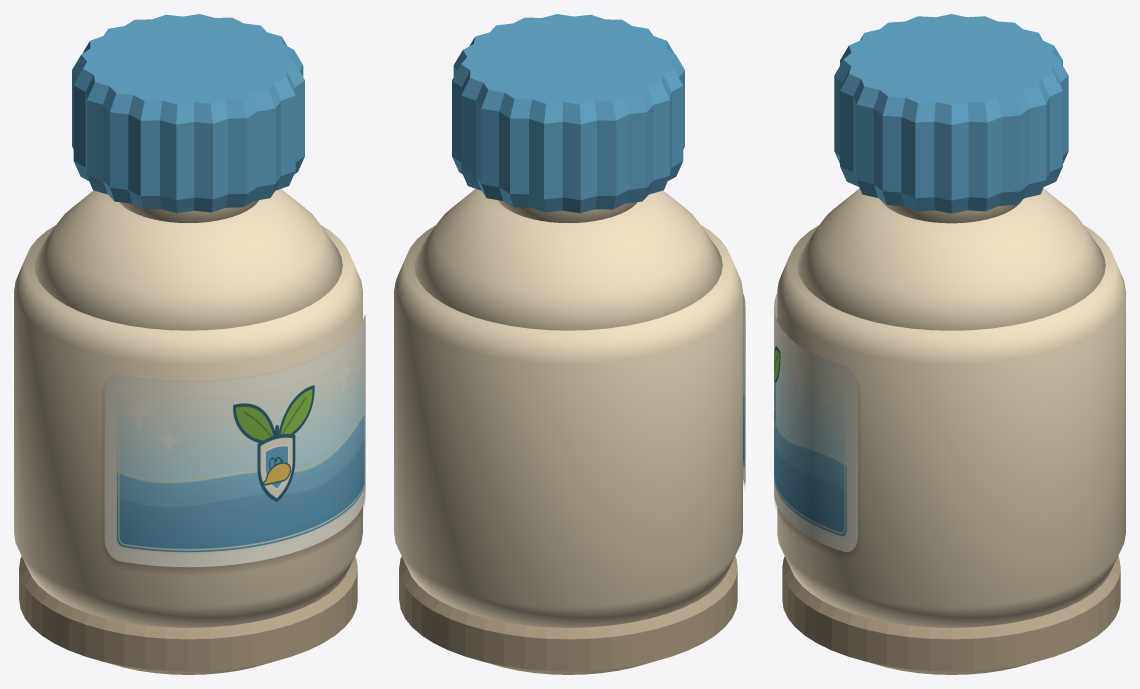
Rendered from LiquidPreparationBottleSlugControl.glb.
3 views of the same model, side by side, from view 1: azimuth 30°, elevation 25°; view 2: azimuth 150°, elevation 25°; view 3: azimuth 270°, elevation 25° (orthographic).
Visible parts, largest first — view 1: LiquidPreparationBottleSlugControl_Body, LiquidPreparationBottleSlugControl_Label, LiquidPreparationBottleSlugControl_Cap, LiquidPreparationBottleSlugControl_Shoulder, LiquidPreparationBottleSlugControl_Base_Rim, LiquidPreparationBottleSlugControl_Neck; view 2: LiquidPreparationBottleSlugControl_Body, LiquidPreparationBottleSlugControl_Cap, LiquidPreparationBottleSlugControl_Shoulder, LiquidPreparationBottleSlugControl_Base_Rim, LiquidPreparationBottleSlugControl_Neck, LiquidPreparationBottleSlugControl_Label; view 3: LiquidPreparationBottleSlugControl_Body, LiquidPreparationBottleSlugControl_Cap, LiquidPreparationBottleSlugControl_Shoulder, LiquidPreparationBottleSlugControl_Label, LiquidPreparationBottleSlugControl_Base_Rim, LiquidPreparationBottleSlugControl_Neck.
Boxes of the visible parts, bbox=[...] form: LiquidPreparationBottleSlugControl_Body: bbox=[14, 225, 362, 627]; LiquidPreparationBottleSlugControl_Label: bbox=[104, 315, 365, 570]; LiquidPreparationBottleSlugControl_Cap: bbox=[72, 14, 304, 213]; LiquidPreparationBottleSlugControl_Shoulder: bbox=[34, 189, 342, 330]; LiquidPreparationBottleSlugControl_Base_Rim: bbox=[19, 556, 357, 674]; LiquidPreparationBottleSlugControl_Neck: bbox=[119, 200, 258, 222]; LiquidPreparationBottleSlugControl_Body: bbox=[394, 225, 742, 627]; LiquidPreparationBottleSlugControl_Cap: bbox=[452, 14, 684, 213]; LiquidPreparationBottleSlugControl_Shoulder: bbox=[414, 189, 722, 330]; LiquidPreparationBottleSlugControl_Base_Rim: bbox=[399, 556, 737, 674]; LiquidPreparationBottleSlugControl_Neck: bbox=[498, 200, 637, 222]; LiquidPreparationBottleSlugControl_Label: bbox=[743, 293, 745, 485]; LiquidPreparationBottleSlugControl_Body: bbox=[777, 225, 1125, 627]; LiquidPreparationBottleSlugControl_Cap: bbox=[834, 14, 1068, 213]; LiquidPreparationBottleSlugControl_Shoulder: bbox=[797, 188, 1105, 330]; LiquidPreparationBottleSlugControl_Label: bbox=[774, 293, 858, 554]; LiquidPreparationBottleSlugControl_Base_Rim: bbox=[782, 556, 1120, 674]; LiquidPreparationBottleSlugControl_Neck: bbox=[881, 200, 1021, 223].
Size of the model in its own units: 0.69 by 1.23 by 0.696.
Materials: 5 (1 with a texture image).
